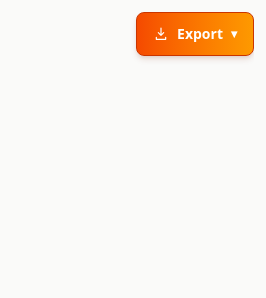
Test: typing editor export menu › supports arrow-key selection, Enter and focus restoration
Click the button "Export ▾".
click(195, 34)  # box [136,12,254,56]
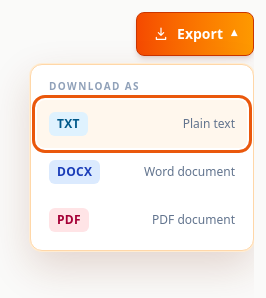
Check: the menu is shown, box [30,64,254,251]
Press Arrowdown
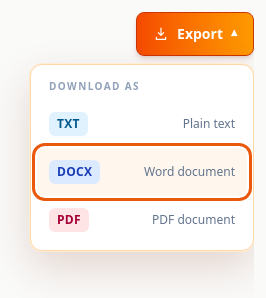
Press Enter
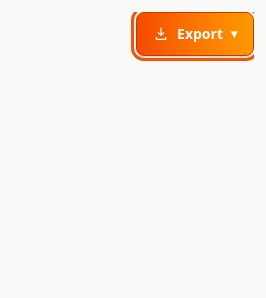
Check: the menu is gone
